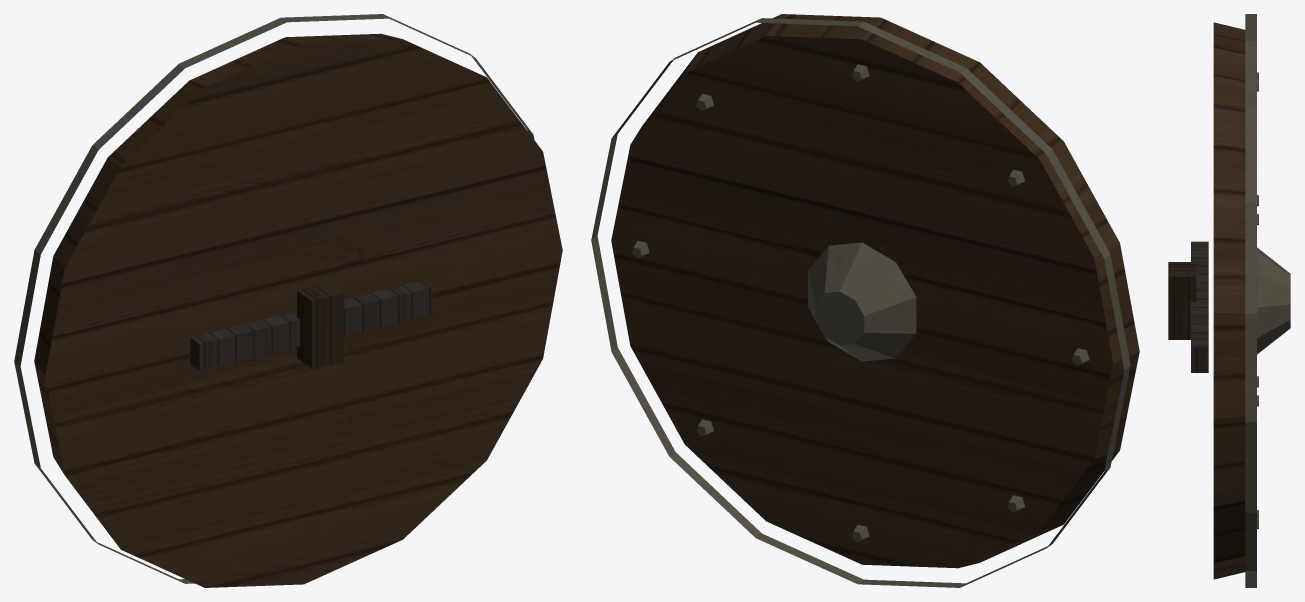
The model's file is wpn_shield_common.glb.
3 views of the same model, side by side, from view 1: azimuth 30°, elevation 25°; view 2: azimuth 150°, elevation 25°; view 3: azimuth 270°, elevation 25° (orthographic). The views are drawn at different scales.
Parts seen in each view (by area): view 1: wpn_shield_common; view 2: wpn_shield_common; view 3: wpn_shield_common.
Boxes of the visible parts, x1=… form: wpn_shield_common: x1=14, y1=14, x2=562, y2=587; wpn_shield_common: x1=591, y1=14, x2=1139, y2=587; wpn_shield_common: x1=1168, y1=14, x2=1290, y2=587.
Bounding box in the file's own units: 0.824 × 0.824 × 0.175.
4 materials, 4 textured.
